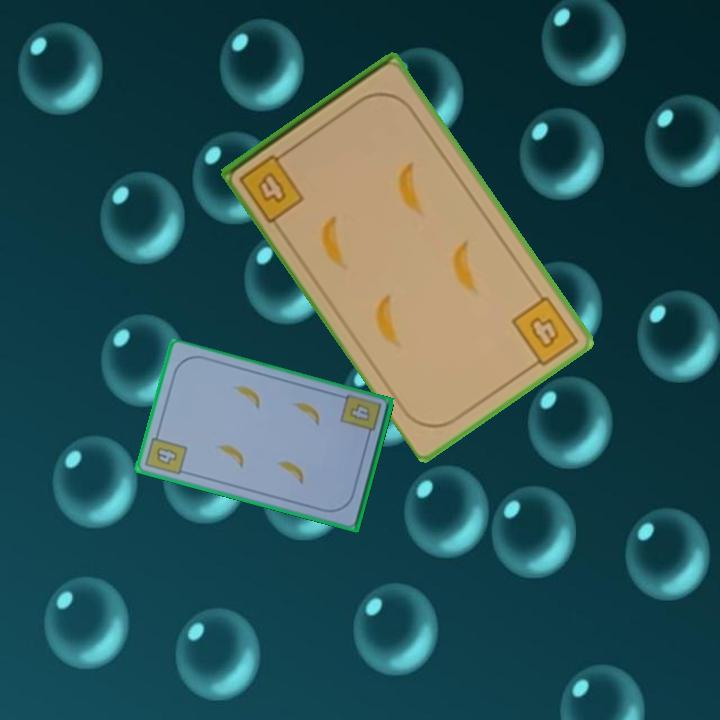4b: (508, 292, 581, 373), (235, 145, 308, 225), (142, 427, 190, 479), (346, 401, 373, 425)
